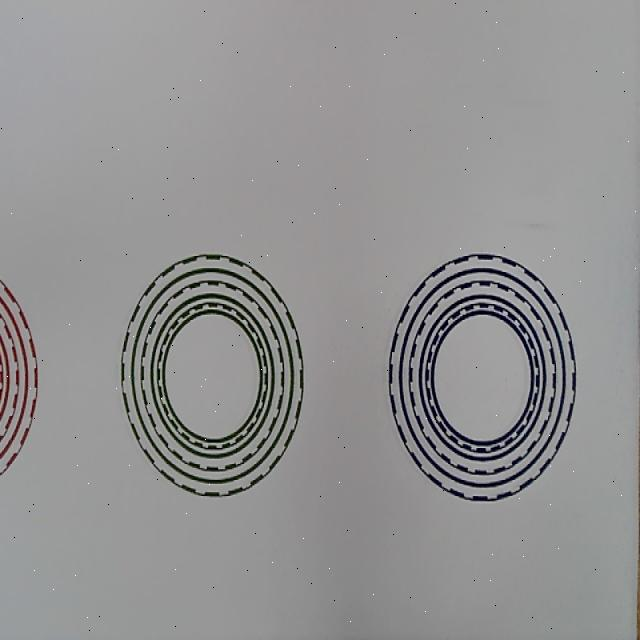b: (387, 254, 577, 502)
g: (120, 254, 304, 496)
